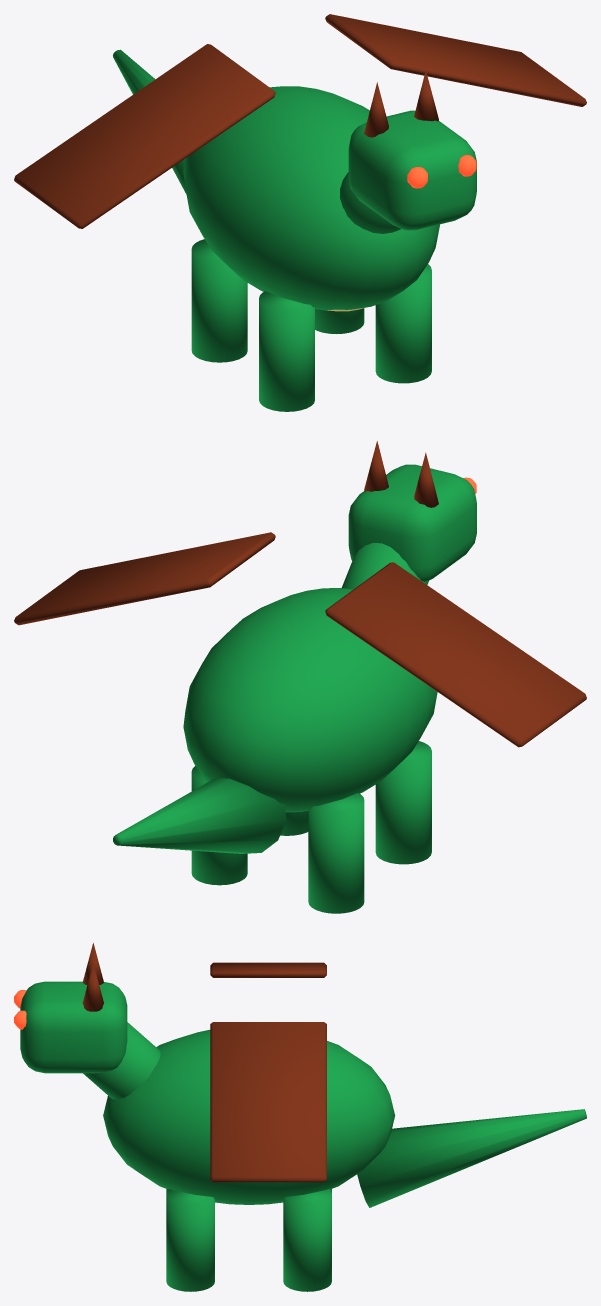
The model's file is dragon.glb.
The picture shows the model from 3 angles, top to bottom: view 1: azimuth 30°, elevation 25°; view 2: azimuth 150°, elevation 25°; view 3: azimuth 270°, elevation 25°; orthographic projection. The views are drawn at different scales.
Visible parts, largest first — view 1: Body, WingL, Head, WingR, Leg, Leg.001, Leg.002, Neck, Leg.003, Tail, Horn, Horn.001; view 2: Body, WingL, Head, WingR, Tail, Leg.001, Leg, Leg.003, Neck, Horn, Horn.001; view 3: Body, WingR, Tail, Head, Leg.003, Leg.002, Neck, WingL, Horn.001.
Part boxes in pixels (x1,y1,x2,y2): Body: [183, 86, 439, 310]; WingL: [14, 44, 275, 228]; Head: [348, 110, 476, 230]; WingR: [325, 14, 586, 106]; Leg: [259, 291, 314, 411]; Leg.001: [191, 239, 247, 362]; Leg.002: [375, 264, 431, 383]; Neck: [340, 172, 400, 233]; Leg.003: [315, 308, 364, 333]; Tail: [113, 49, 186, 193]; Horn: [364, 82, 388, 137]; Horn.001: [414, 70, 438, 121]; Body: [183, 588, 437, 812]; WingL: [325, 562, 586, 747]; Head: [348, 464, 476, 581]; WingR: [14, 532, 275, 625]; Tail: [113, 778, 286, 853]; Leg.001: [308, 793, 364, 913]; Leg: [375, 741, 431, 864]; Leg.003: [191, 766, 247, 885]; Neck: [341, 543, 428, 589]; Horn: [414, 452, 438, 507]; Horn.001: [364, 441, 388, 491]; Body: [103, 1029, 395, 1204]; WingR: [210, 1022, 326, 1182]; Tail: [357, 1109, 586, 1207]; Head: [20, 981, 127, 1073]; Leg.003: [283, 1189, 331, 1291]; Leg.002: [166, 1189, 214, 1291]; Neck: [83, 1022, 160, 1099]; WingL: [210, 962, 326, 977]; Horn.001: [82, 963, 103, 1011].
Size of the model in its own units: 5.23 by 3.45 by 5.88.
